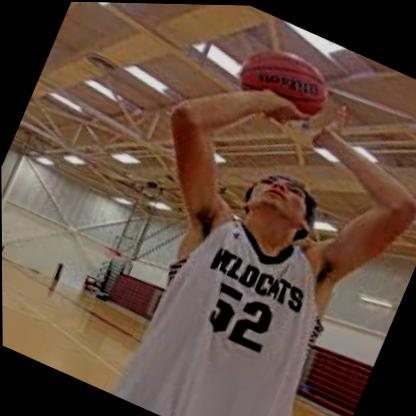basketball: (231, 35, 338, 131)
